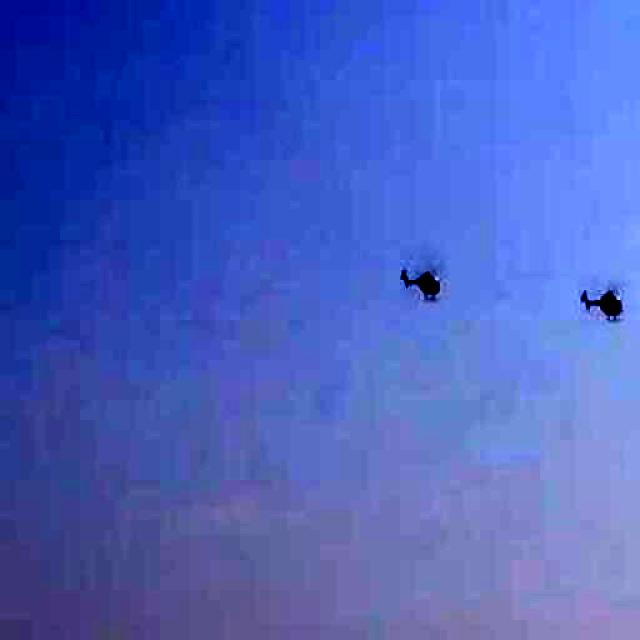drone: (565, 255, 640, 368), (385, 246, 465, 330)
